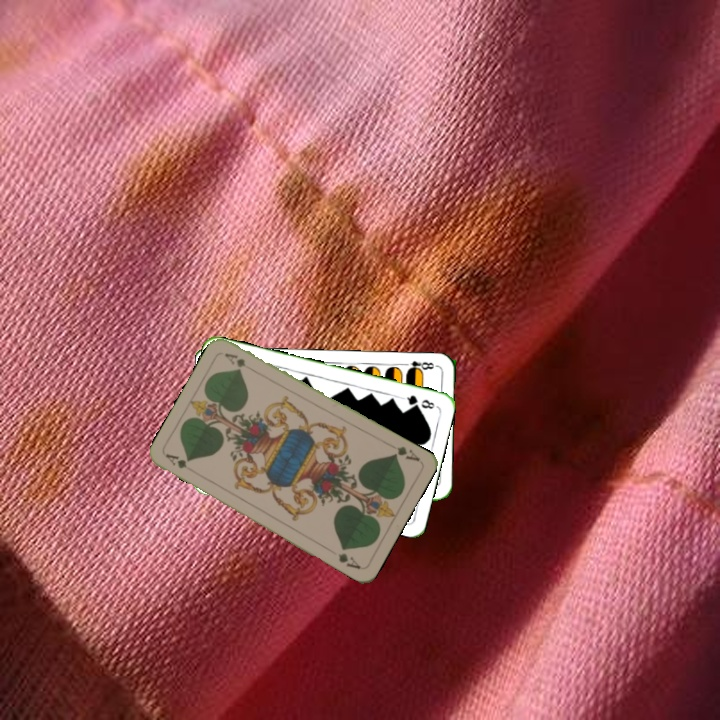E8: (399, 357, 439, 375)
G8: (403, 391, 437, 411)
GA: (162, 450, 199, 475), (388, 442, 422, 464)
